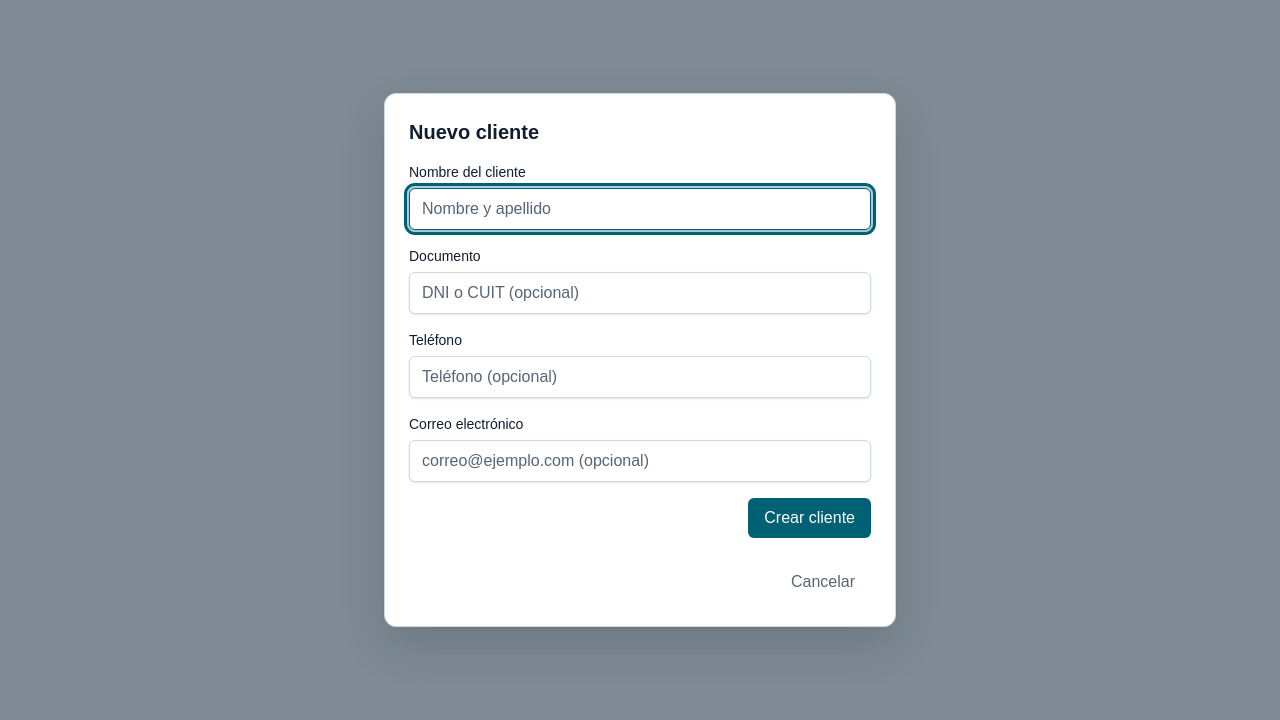
Test: ClienteCreateModal › sends a fresh x-idempotency-key per attempt
In the field labelled "Nombre del cliente": [640, 209] box [409, 188, 871, 230], type "María Gómez"
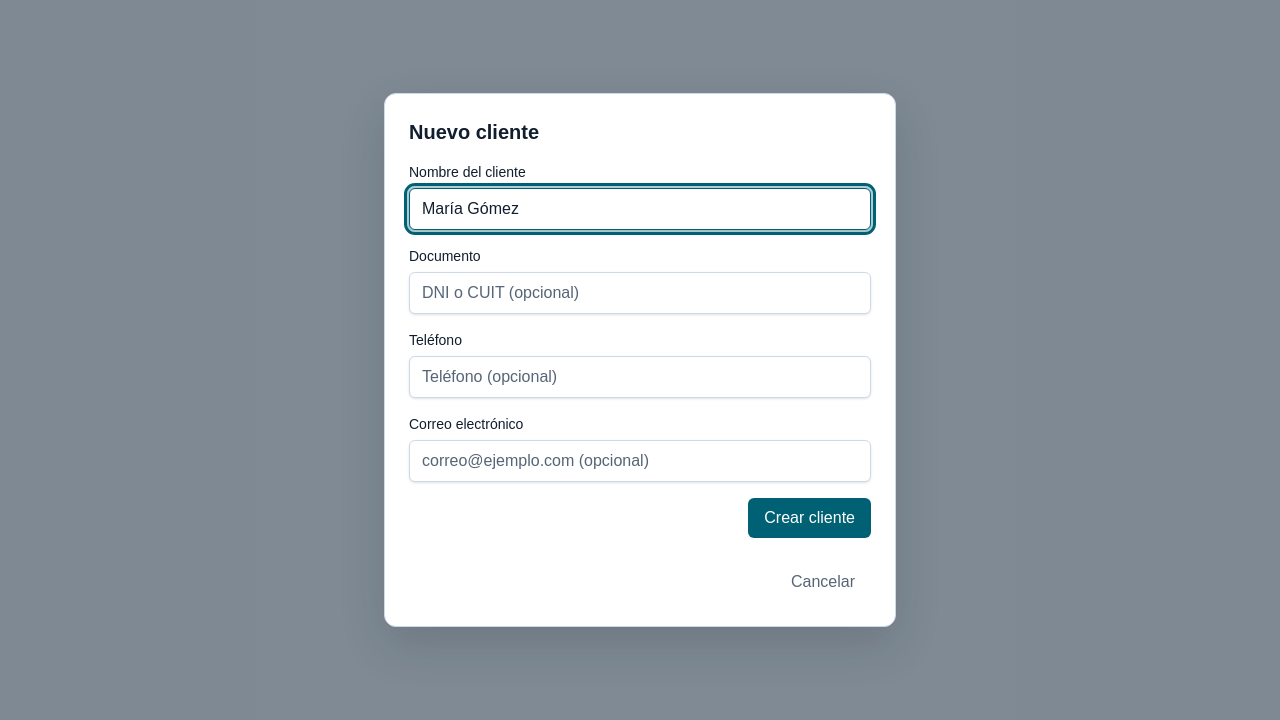
Click the button "Crear cliente": [810, 518] box [748, 498, 871, 538]
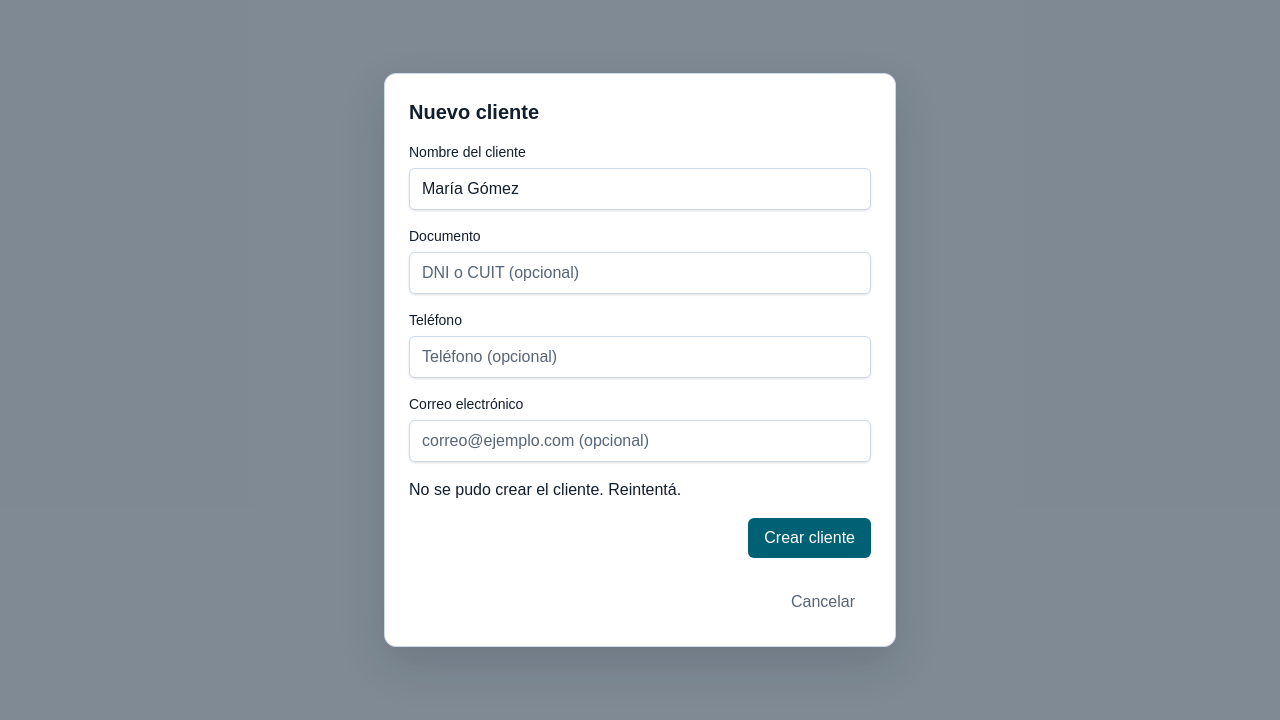
Expected: the text "No se pudo crear el cliente. Reintentá." is shown, [409, 481, 681, 498]
Click the button "Crear cliente": [810, 538] box [748, 518, 871, 558]
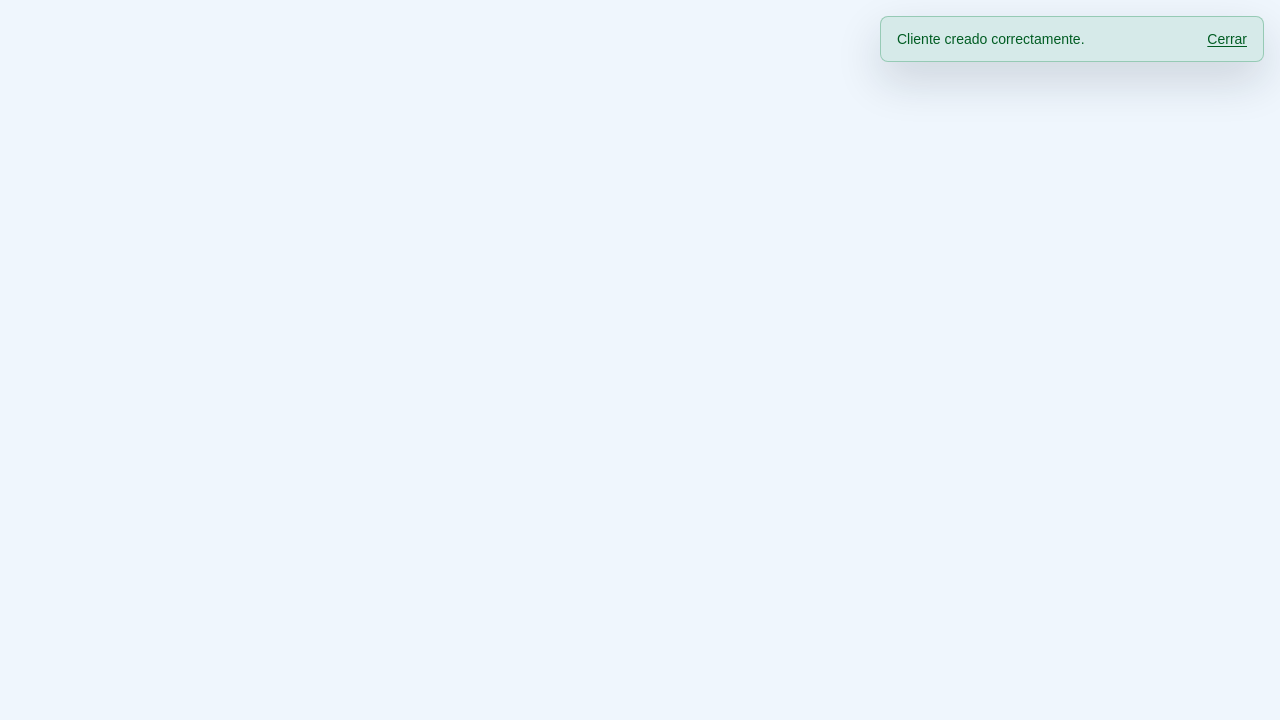
Expected: the dialog is gone
